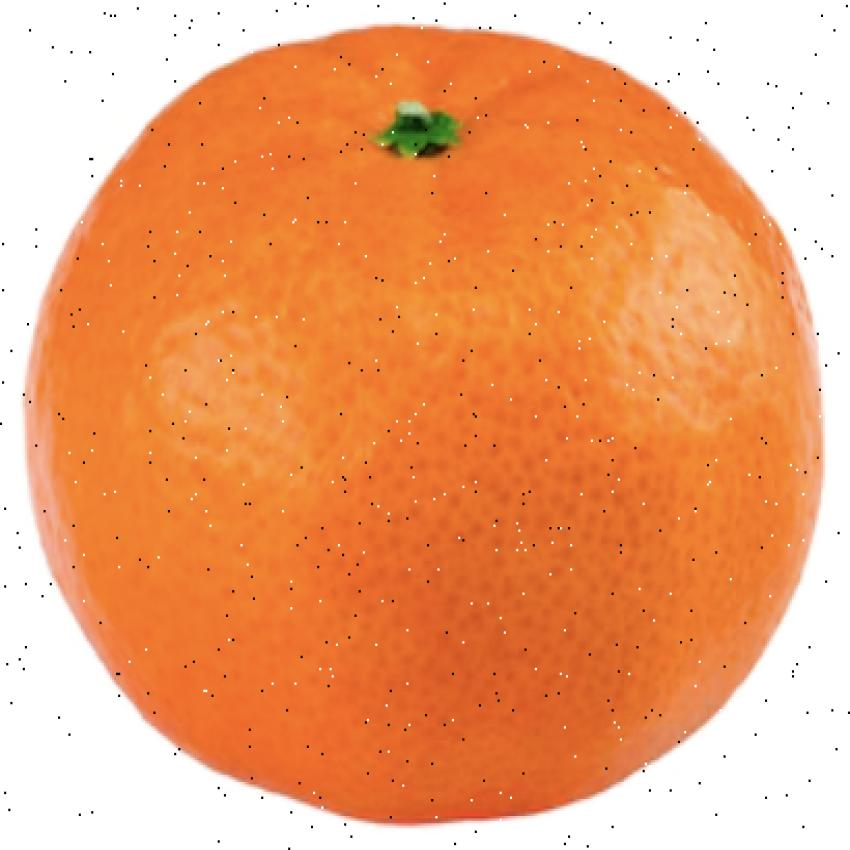Buen estado: (17, 15, 835, 835)
